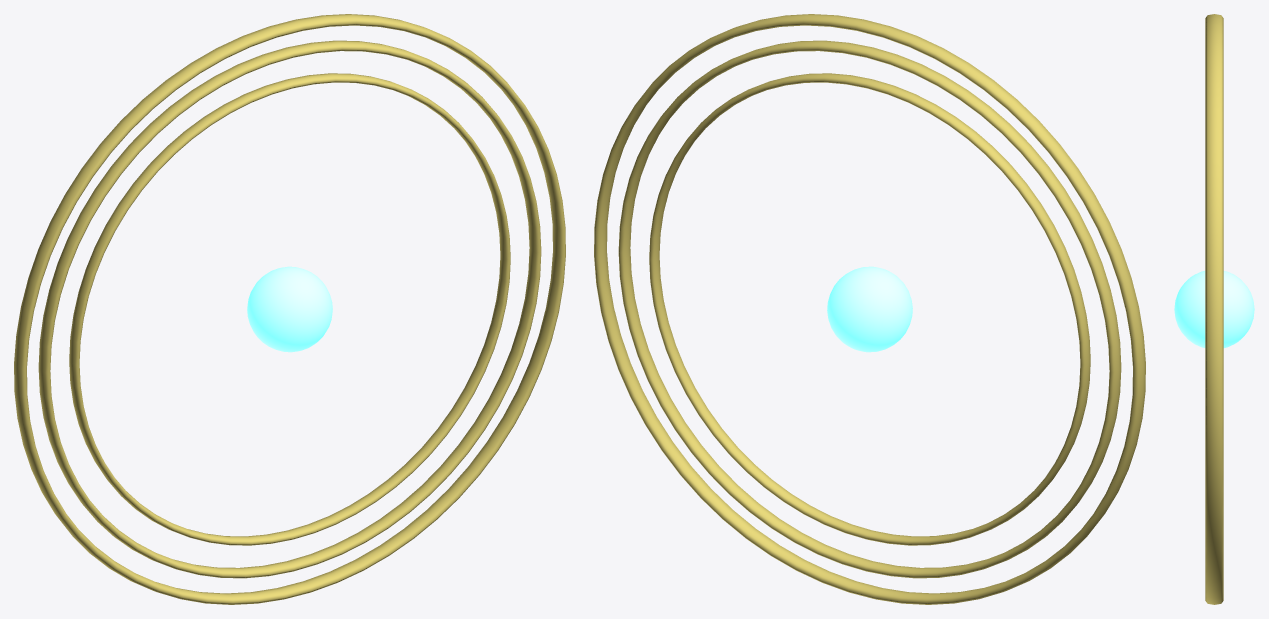
Rendered from spin.glb.
3 renders of one model, left to right at view 1: azimuth 30°, elevation 25°; view 2: azimuth 150°, elevation 25°; view 3: azimuth 270°, elevation 25°, orthographic. The views are drawn at different scales.
Visible parts, largest first — view 1: Circle, Circle.001, Circle.002, Sphere; view 2: Circle, Circle.001, Circle.002, Sphere; view 3: Circle, Sphere.
Part boxes in pixels (x1,y1,x2,y2): Circle: (14, 14, 565, 604); Circle.001: (38, 40, 541, 578); Circle.002: (69, 73, 510, 545); Sphere: (247, 266, 332, 352); Circle: (594, 14, 1145, 604); Circle.001: (618, 40, 1121, 578); Circle.002: (649, 73, 1090, 545); Sphere: (827, 266, 912, 352); Circle: (1205, 14, 1223, 604); Sphere: (1174, 271, 1254, 347).
Bounding box in the file's own units: 1.98 × 1.98 × 0.2694.
